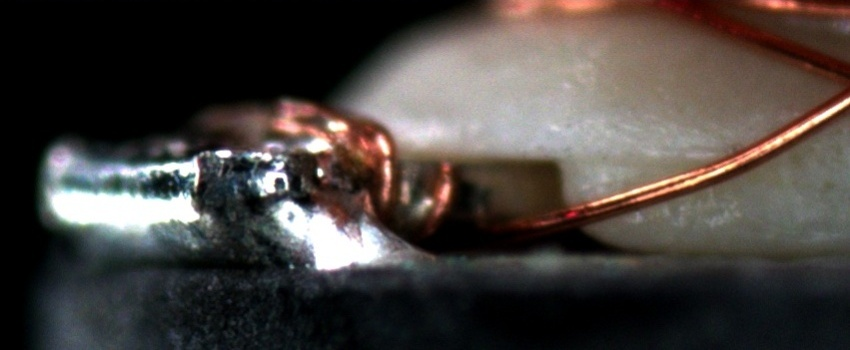CL: (826, 57, 850, 110)
DL: (610, 126, 742, 184)
TE: (254, 90, 465, 231)
